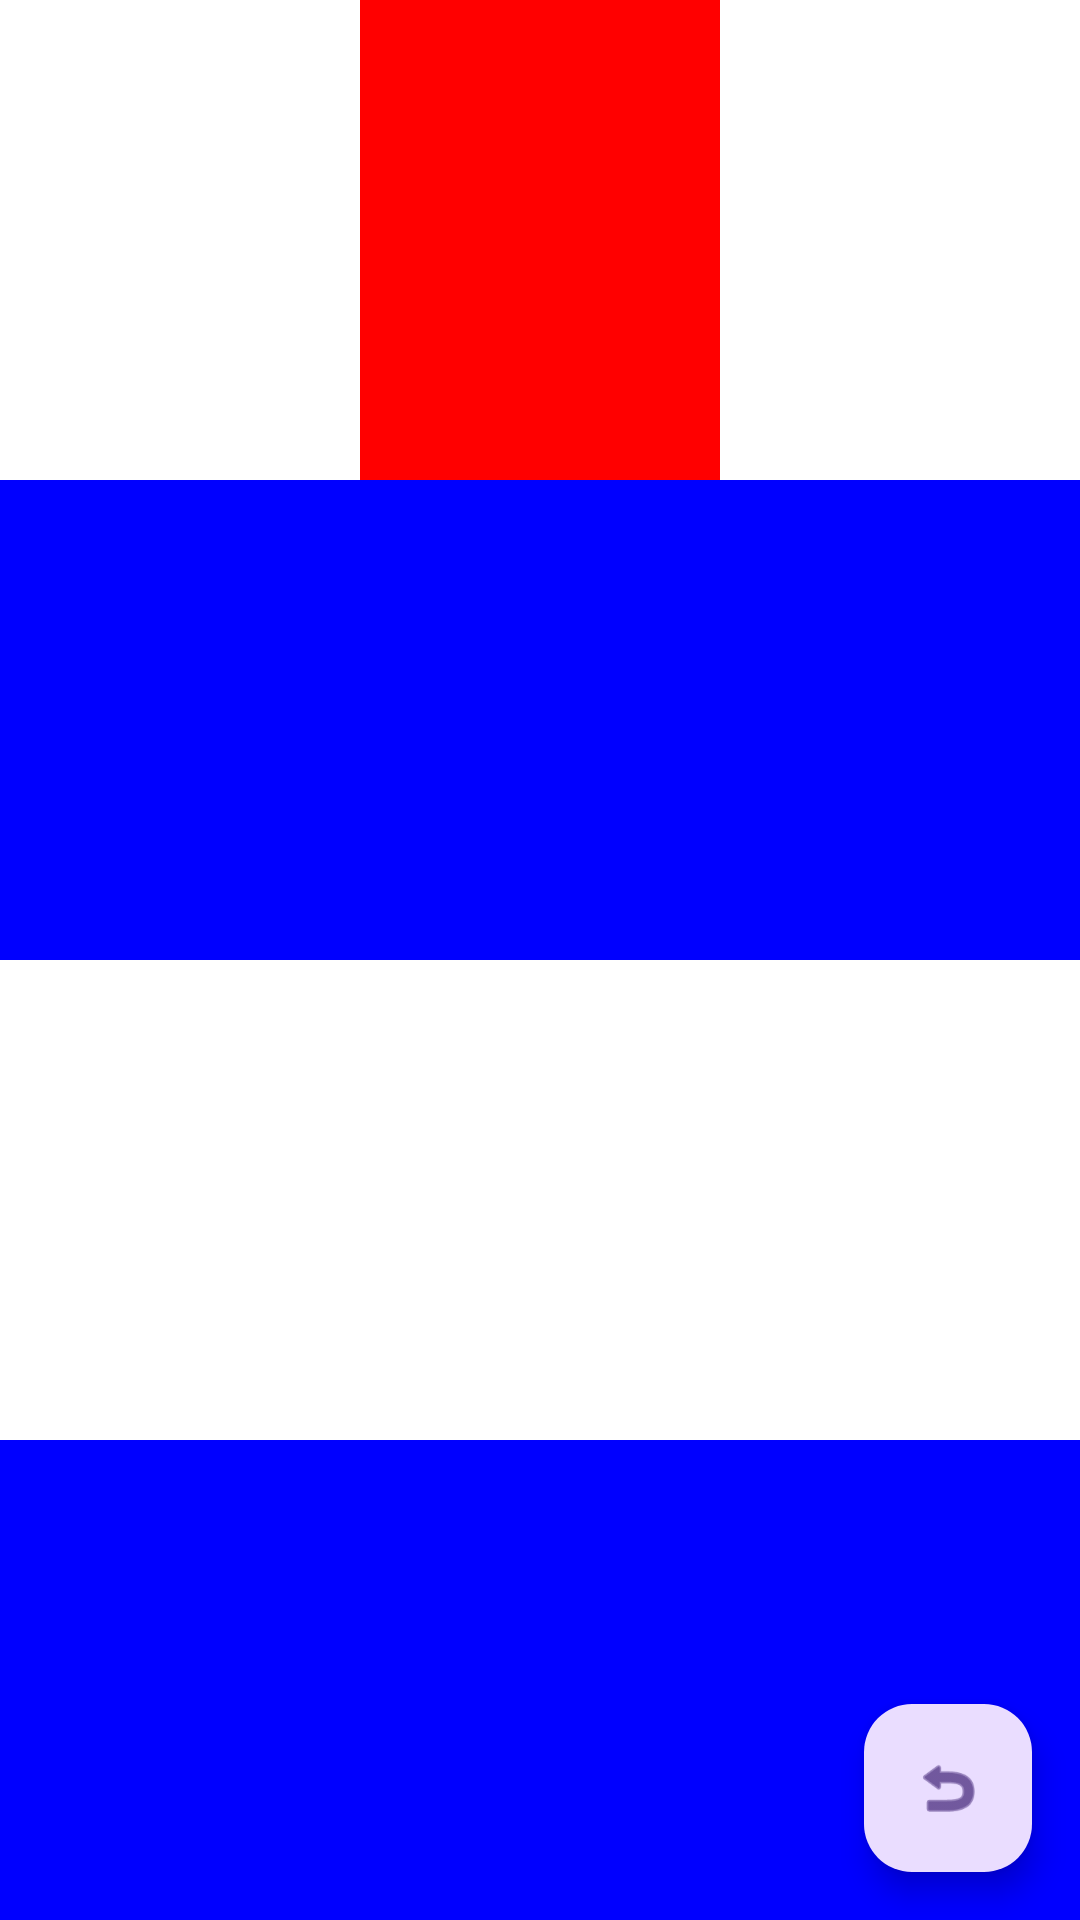

Screen size 1080px x 1920px. Icon name, then its center in pixels as (x=x, y=y):
Volver: (x=948, y=1788)
